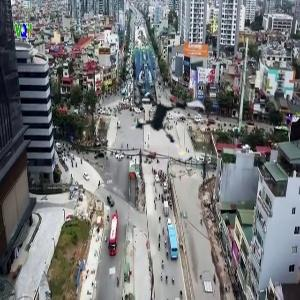drone: (132, 86, 212, 166)
